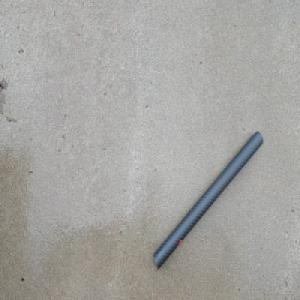LuggagePart: (152, 129, 263, 270)
